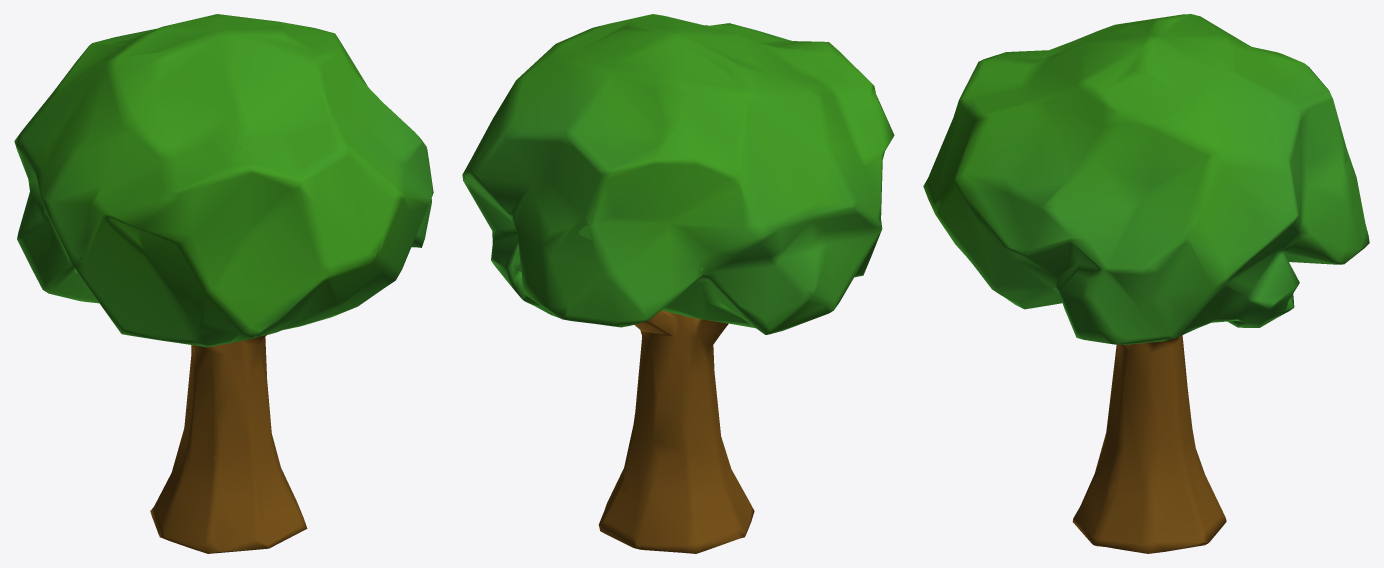
File: gen3d-rubber-tree-lod0.glb
The picture shows the model from 3 angles, left to right: view 1: azimuth 30°, elevation 25°; view 2: azimuth 150°, elevation 25°; view 3: azimuth 270°, elevation 25°; orthographic projection.
Visible parts, largest first — view 1: part_0; view 2: part_0; view 3: part_0.
Part boxes in pixels (x1,y1,x2,y2): part_0: (14, 14, 433, 553); part_0: (462, 14, 894, 553); part_0: (923, 14, 1369, 553).
Bounding box in the file's own units: 0.7646 × 0.9934 × 0.815.
